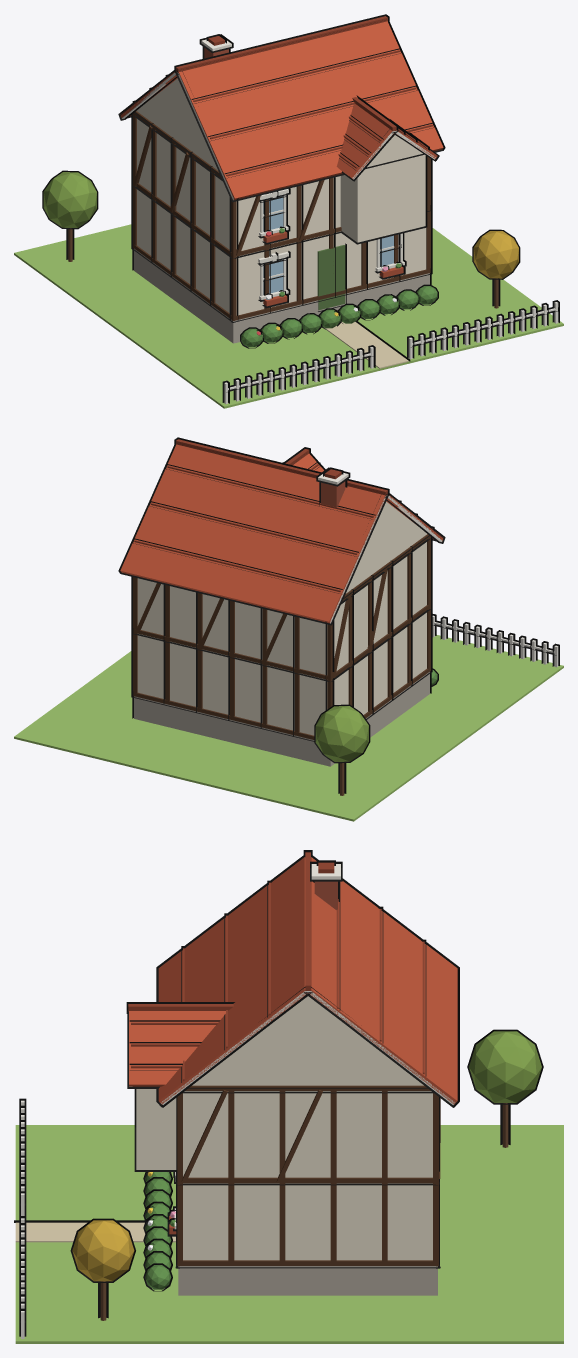
The model's file is Konut_konak_2.fbx.
3 renders of one model, top to bottom at view 1: azimuth 30°, elevation 25°; view 2: azimuth 150°, elevation 25°; view 3: azimuth 270°, elevation 25°, orthographic. The views are drawn at different scales.
Visible parts, largest first — view 1: Konut_konak_2; view 2: Konut_konak_2; view 3: Konut_konak_2.
Boxes of the visible parts, x1,y1,x2,y2 form: Konut_konak_2: (14, 14, 563, 408); Konut_konak_2: (14, 437, 563, 821); Konut_konak_2: (14, 850, 563, 1343).
Bounding box in the file's own units: 14 × 10.09 × 15.05.
